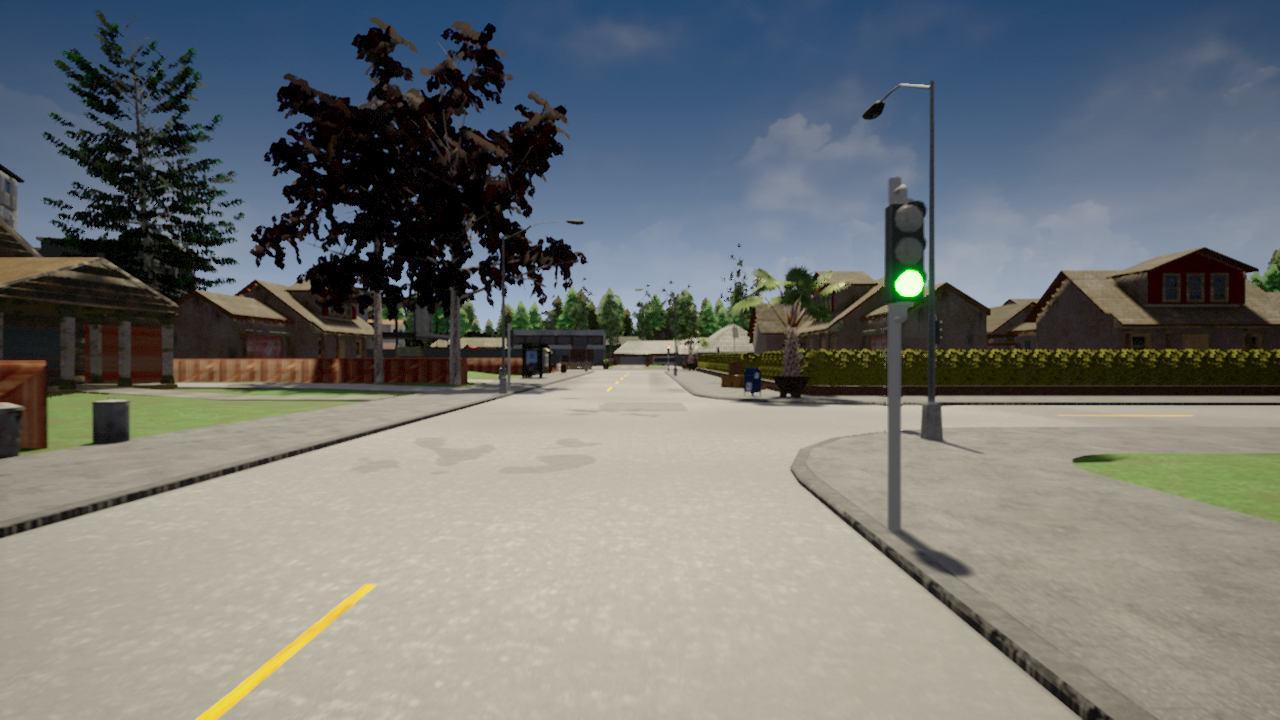green: (883, 200, 928, 302)
